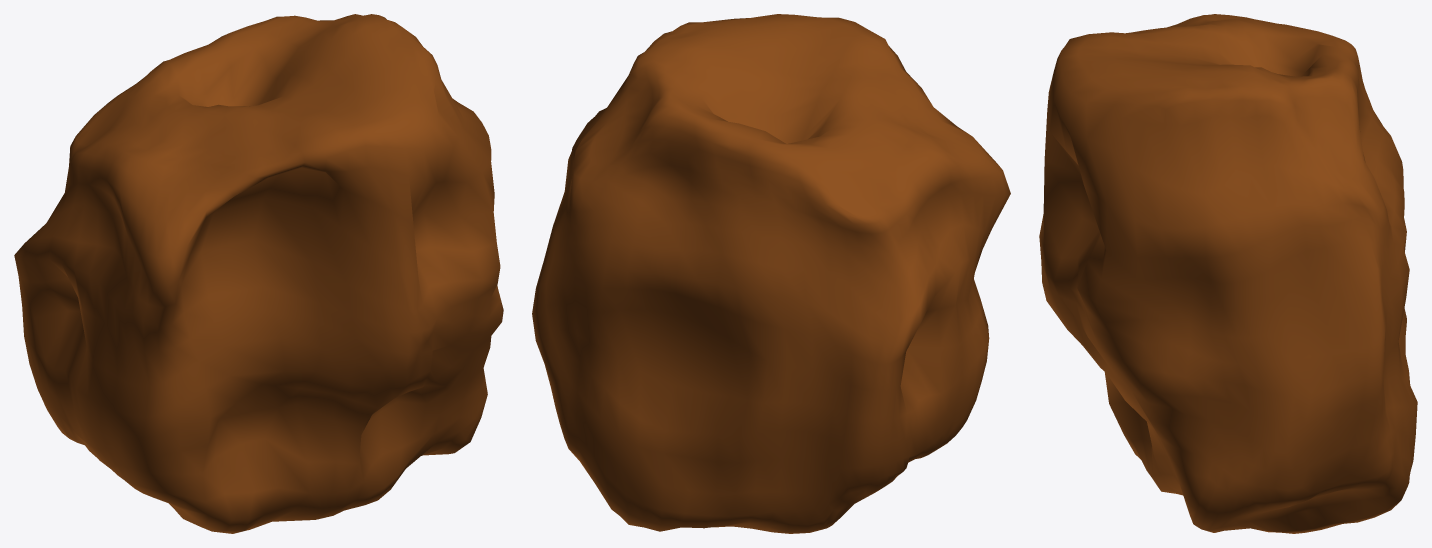
The model's file is asteroid_chicop.fbx.
3 views of the same model, side by side, from view 1: azimuth 30°, elevation 25°; view 2: azimuth 150°, elevation 25°; view 3: azimuth 270°, elevation 25° (orthographic). The views are drawn at different scales.
Visible parts, largest first — view 1: asterioid_chico; view 2: asterioid_chico; view 3: asterioid_chico.
Part boxes in pixels (bbox=[...]): asterioid_chico: bbox=[14, 14, 503, 533]; asterioid_chico: bbox=[532, 14, 1010, 533]; asterioid_chico: bbox=[1039, 14, 1417, 533].
Size of the model in its own units: 299 by 323 by 242.
